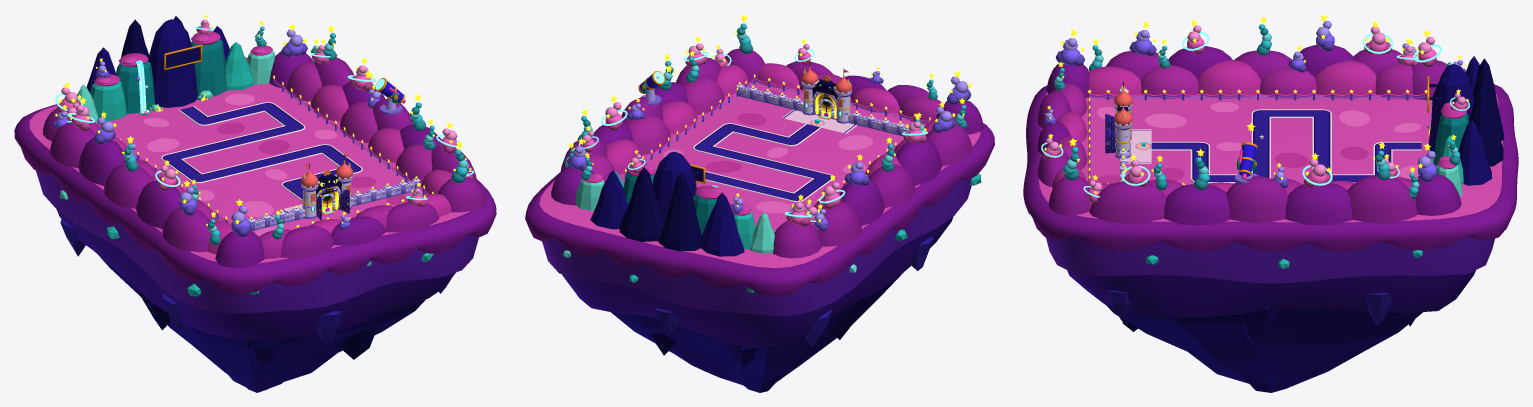
File: nebula_base.fbx
The picture shows the model from 3 angles, left to right: view 1: azimuth 30°, elevation 25°; view 2: azimuth 150°, elevation 25°; view 3: azimuth 270°, elevation 25°; orthographic projection. The views are drawn at different scales.
Visible parts, largest first — view 1: Base_Cliff, Base_Backdrop, Base_Ground, Base_Trees, Base_Road, Base_Gate, Base_Glow, Base_Dressing, Base_GateTrim; view 2: Base_Cliff, Base_Backdrop, Base_Ground, Base_Trees, Base_Road, Base_Gate, Base_Glow, Base_Dressing, Base_GateTrim; view 3: Base_Cliff, Base_Backdrop, Base_Ground, Base_Trees, Base_Road, Base_Glow, Base_Dressing, Base_Gate, Base_GateTrim.
Part boxes in pixels (<box>): Base_Cliff: <box>14,57,496,392</box>; Base_Backdrop: <box>43,16,485,267</box>; Base_Ground: <box>29,58,469,263</box>; Base_Trees: <box>52,19,472,245</box>; Base_Road: <box>161,102,362,212</box>; Base_Gate: <box>247,153,420,231</box>; Base_Glow: <box>55,14,473,229</box>; Base_Dressing: <box>136,78,429,228</box>; Base_GateTrim: <box>301,154,353,202</box>; Base_Cliff: <box>525,123,994,392</box>; Base_Backdrop: <box>551,48,984,258</box>; Base_Ground: <box>539,82,980,268</box>; Base_Trees: <box>564,23,971,231</box>; Base_Road: <box>693,109,856,201</box>; Base_Gate: <box>736,60,909,136</box>; Base_Glow: <box>568,14,971,232</box>; Base_Dressing: <box>620,77,930,189</box>; Base_GateTrim: <box>801,61,852,125</box>; Base_Cliff: <box>1023,84,1518,392</box>; Base_Backdrop: <box>1037,44,1504,225</box>; Base_Ground: <box>1039,92,1503,222</box>; Base_Trees: <box>1042,21,1468,203</box>; Base_Road: <box>1126,109,1421,183</box>; Base_Glow: <box>1041,14,1469,197</box>; Base_Dressing: <box>1088,92,1427,182</box>; Base_Gate: <box>1105,80,1151,181</box>; Base_GateTrim: <box>1114,89,1150,148</box>.
Bounding box in the file's own units: 188 × 179 × 244.
